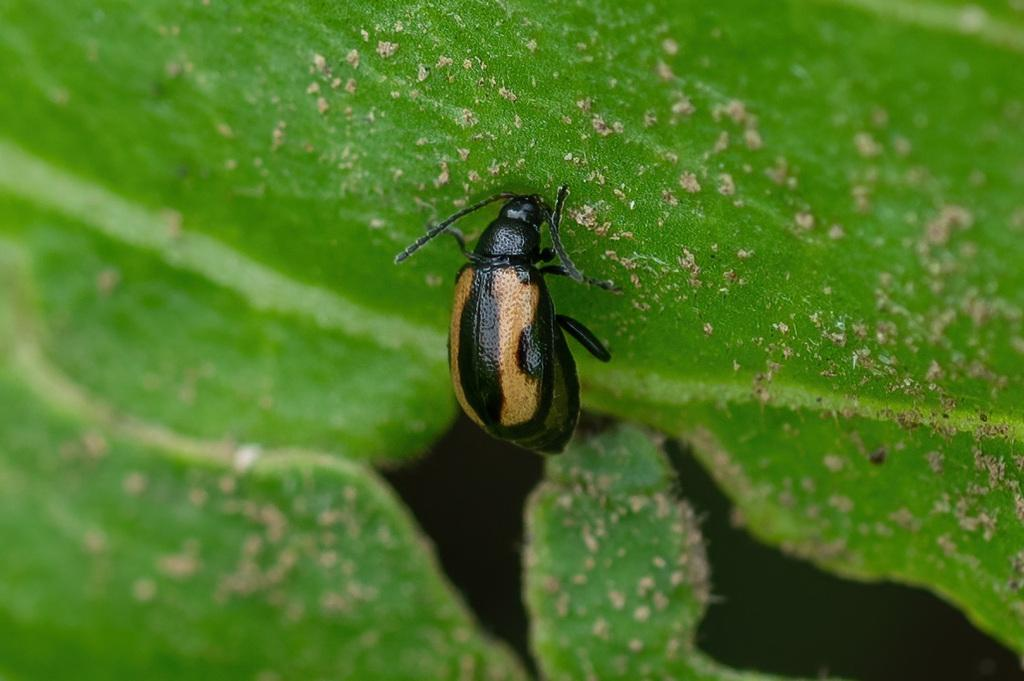flea_beetle: (363, 125, 651, 507)
